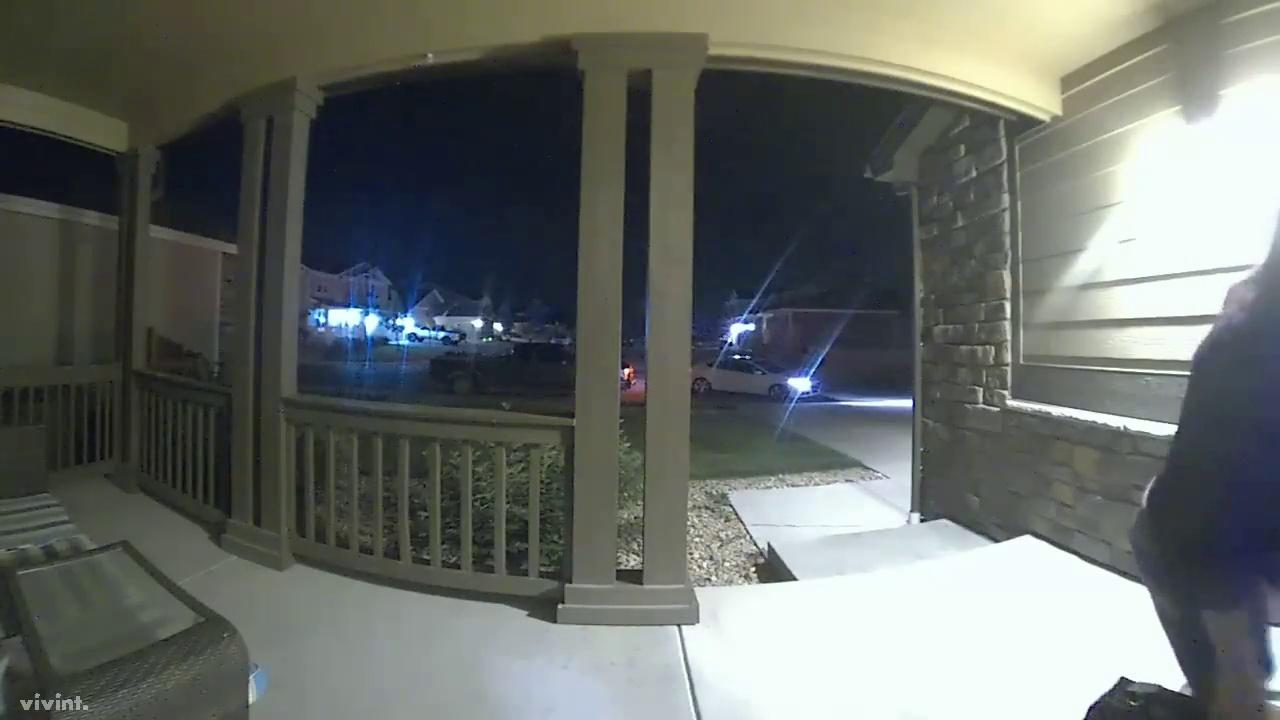suspicion: (1052, 180, 1280, 720)
